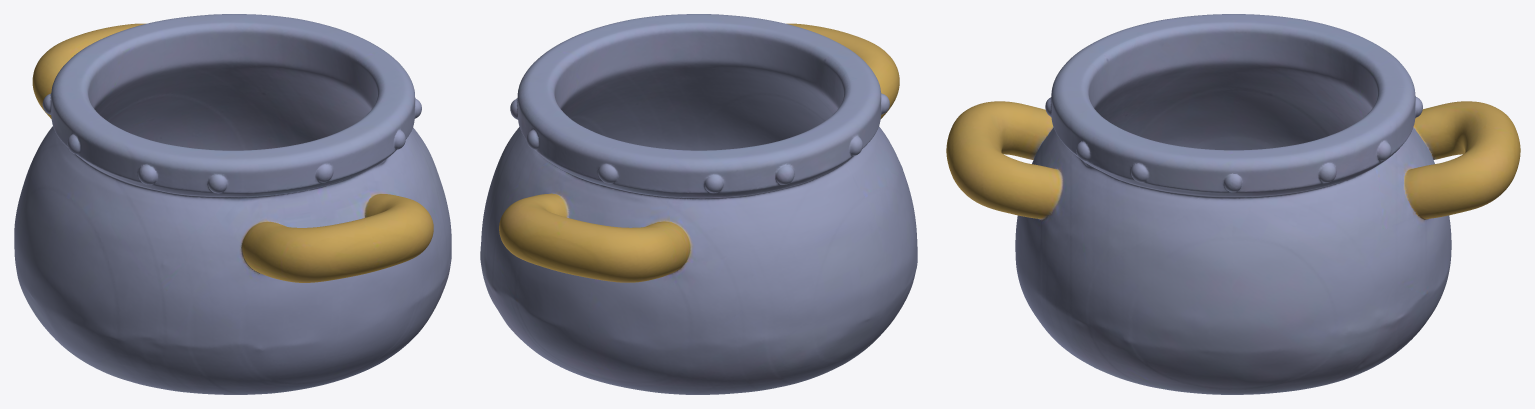
File: BigPot.glb
The picture shows the model from 3 angles, left to right: view 1: azimuth 30°, elevation 25°; view 2: azimuth 150°, elevation 25°; view 3: azimuth 270°, elevation 25°; orthographic projection.
Parts seen in each view (by area): view 1: tripo_node_26e94b9a-6a60-4c32-8286-7b592c8996c4; view 2: tripo_node_26e94b9a-6a60-4c32-8286-7b592c8996c4; view 3: tripo_node_26e94b9a-6a60-4c32-8286-7b592c8996c4.
Part boxes in pixels (<box>): tripo_node_26e94b9a-6a60-4c32-8286-7b592c8996c4: <box>14,14,451,394</box>; tripo_node_26e94b9a-6a60-4c32-8286-7b592c8996c4: <box>480,14,917,394</box>; tripo_node_26e94b9a-6a60-4c32-8286-7b592c8996c4: <box>946,14,1520,394</box>.
Size of the model in its own units: 0.7624 by 0.4519 by 1.
1 material, 1 textured.
